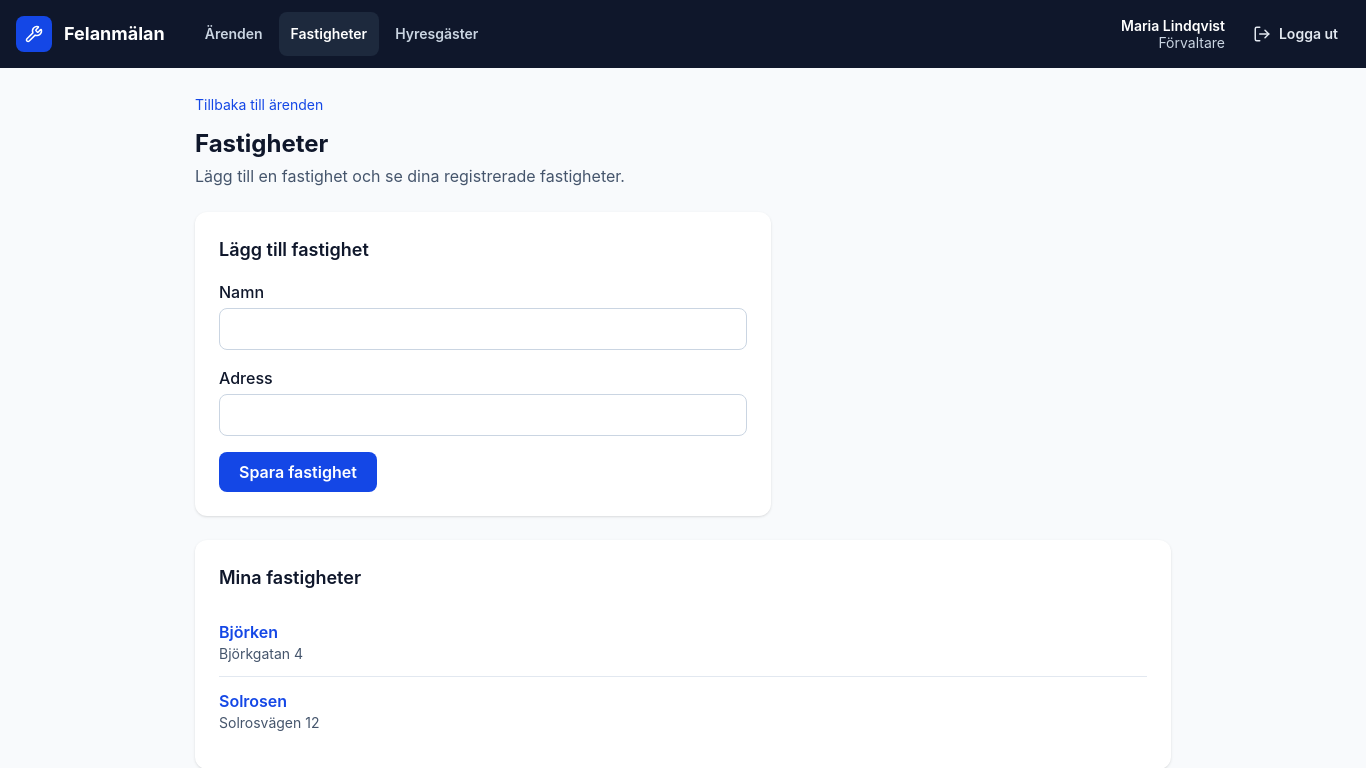
Test: ApartmentsPage – issue #12 › går att öppna en fastighets lägenheter via fastighetslistan
Click the link "Solrosen". click: (253, 701)
box: [219,691,287,711]
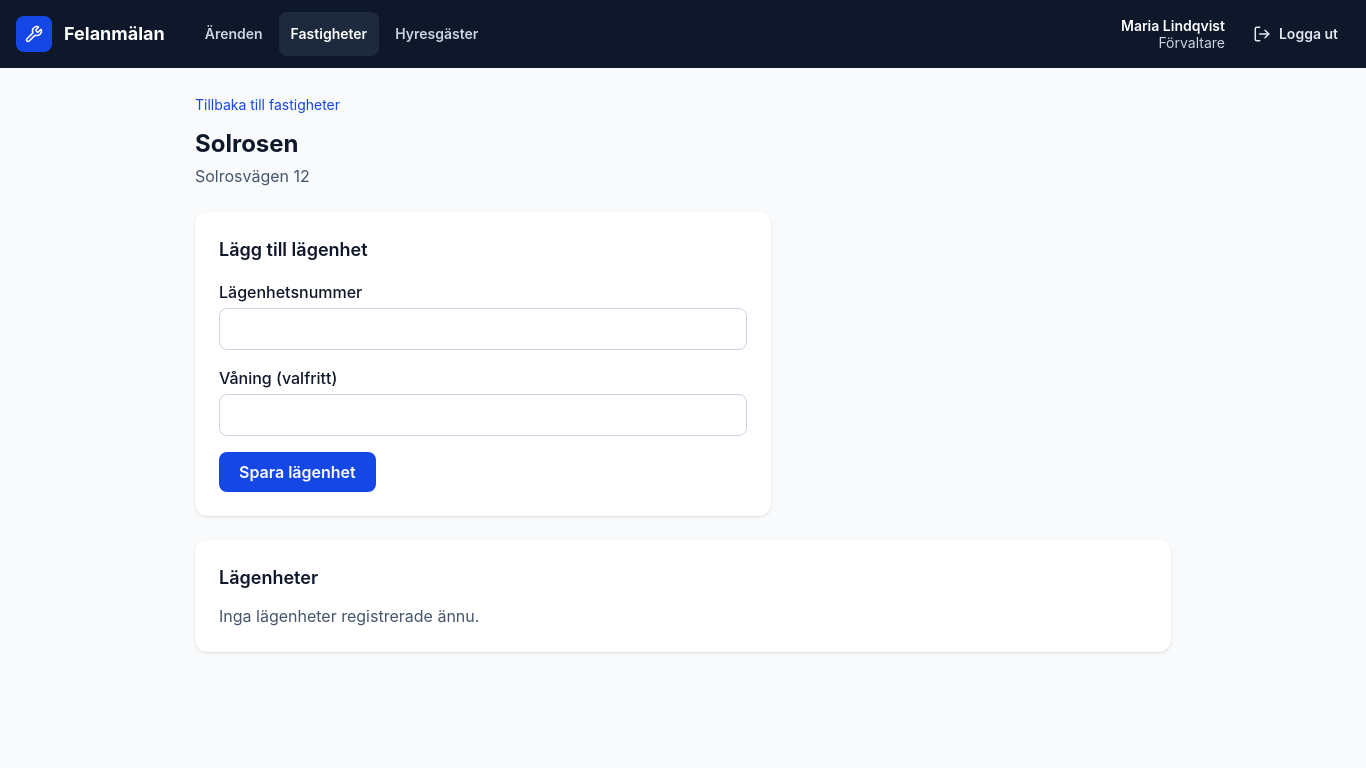
Expected: the heading "Lägg till lägenhet" is shown, [219,239,368,260]
Expected: the text "Solrosvägen 12" is shown, [195,166,310,186]
